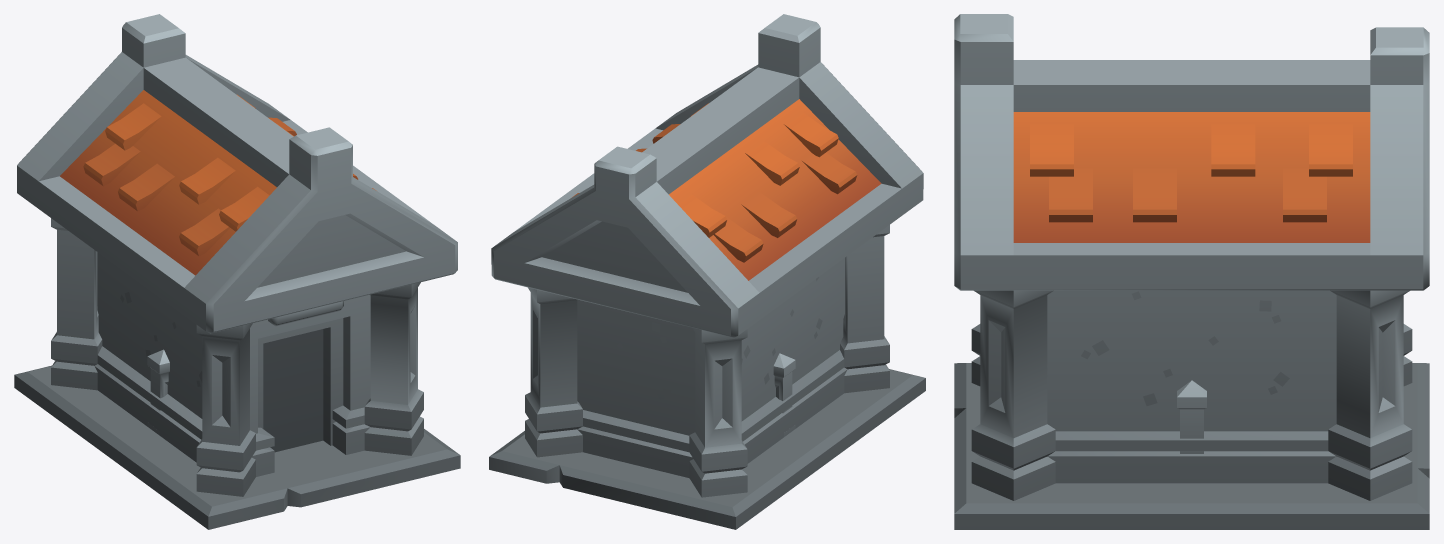
File: halloween.glb
3 renders of one model, left to right at view 1: azimuth 30°, elevation 25°; view 2: azimuth 150°, elevation 25°; view 3: azimuth 270°, elevation 25°, orthographic. The views are drawn at different scales.
Parts seen in each view (by area): view 1: crypt, fence; view 2: crypt, fence; view 3: crypt, fence.
Boxes of the visible parts, x1,y1,x2,y2 form: crypt: (14,14,460,529); fence: (147,349,169,435); crypt: (489,14,925,529); fence: (773,353,795,436); crypt: (954,14,1429,529); fence: (1177,380,1206,453).
Size of the model in its own units: 6 by 8.48 by 8.
1 material, 1 textured.
